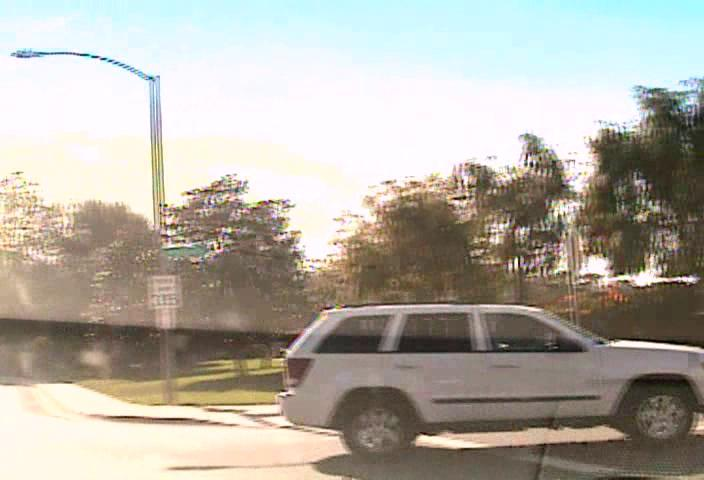speedLimit35: (145, 271, 181, 311)
